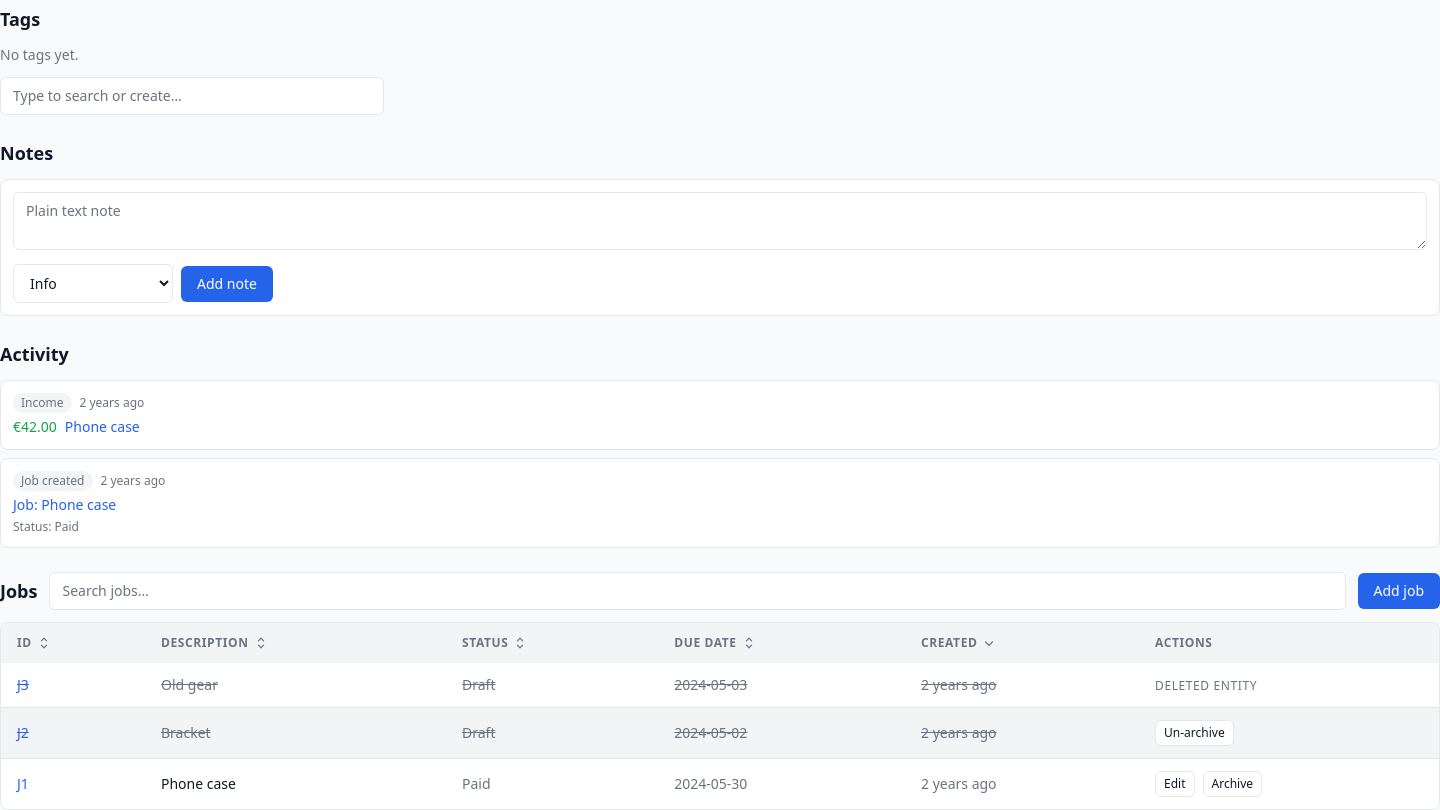
Scenario: ClientDetailPage › archives a job from its row after confirming
(page scrolled)
Click the button with test id "client-job-archive-J1": coordinates (1232, 784) left=1202, top=771, right=1262, bottom=797
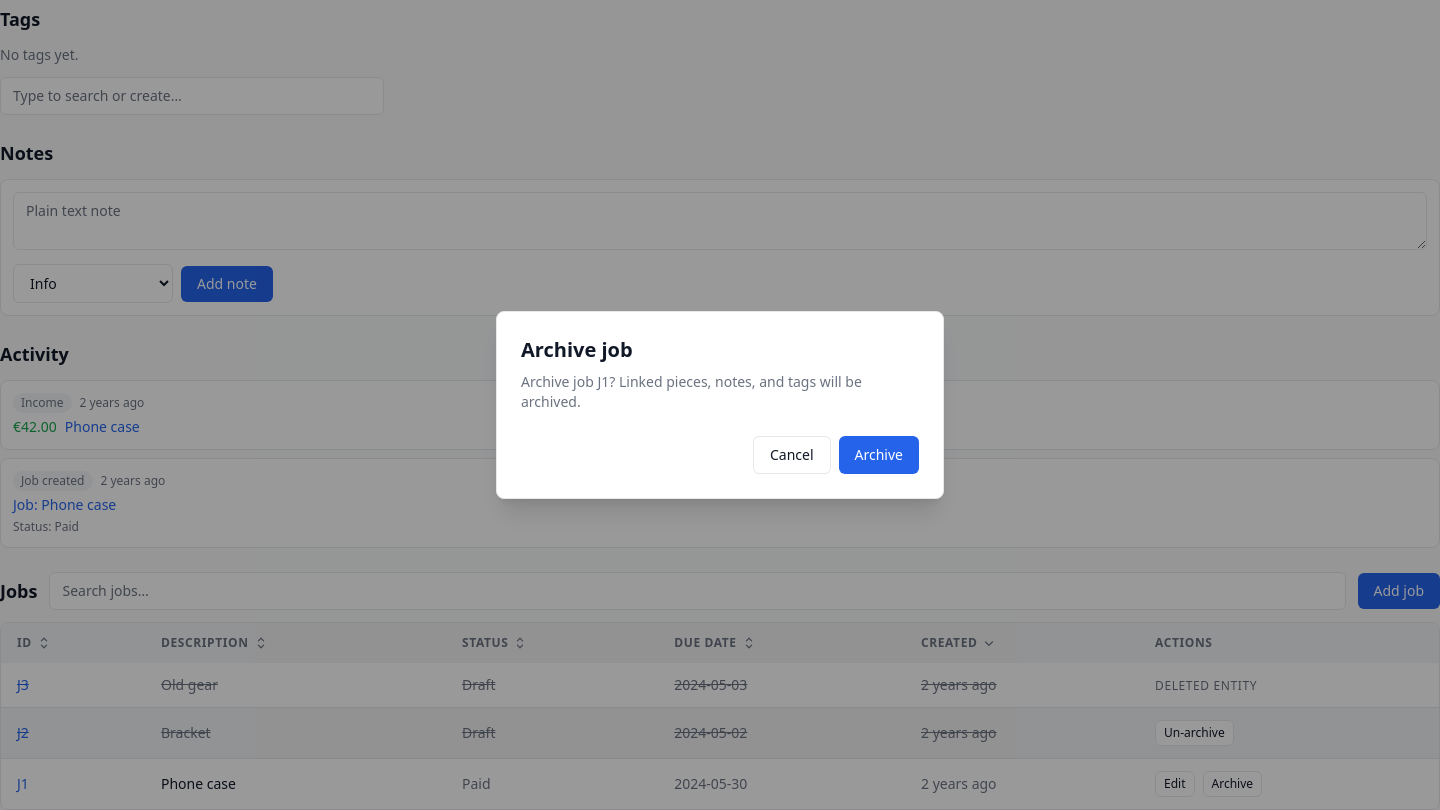
Expected: the heading "Archive job" is shown, left=521, top=336, right=632, bottom=363
Click the button "Archive": coordinates (879, 455) left=838, top=436, right=919, bottom=474
(page scrolled)
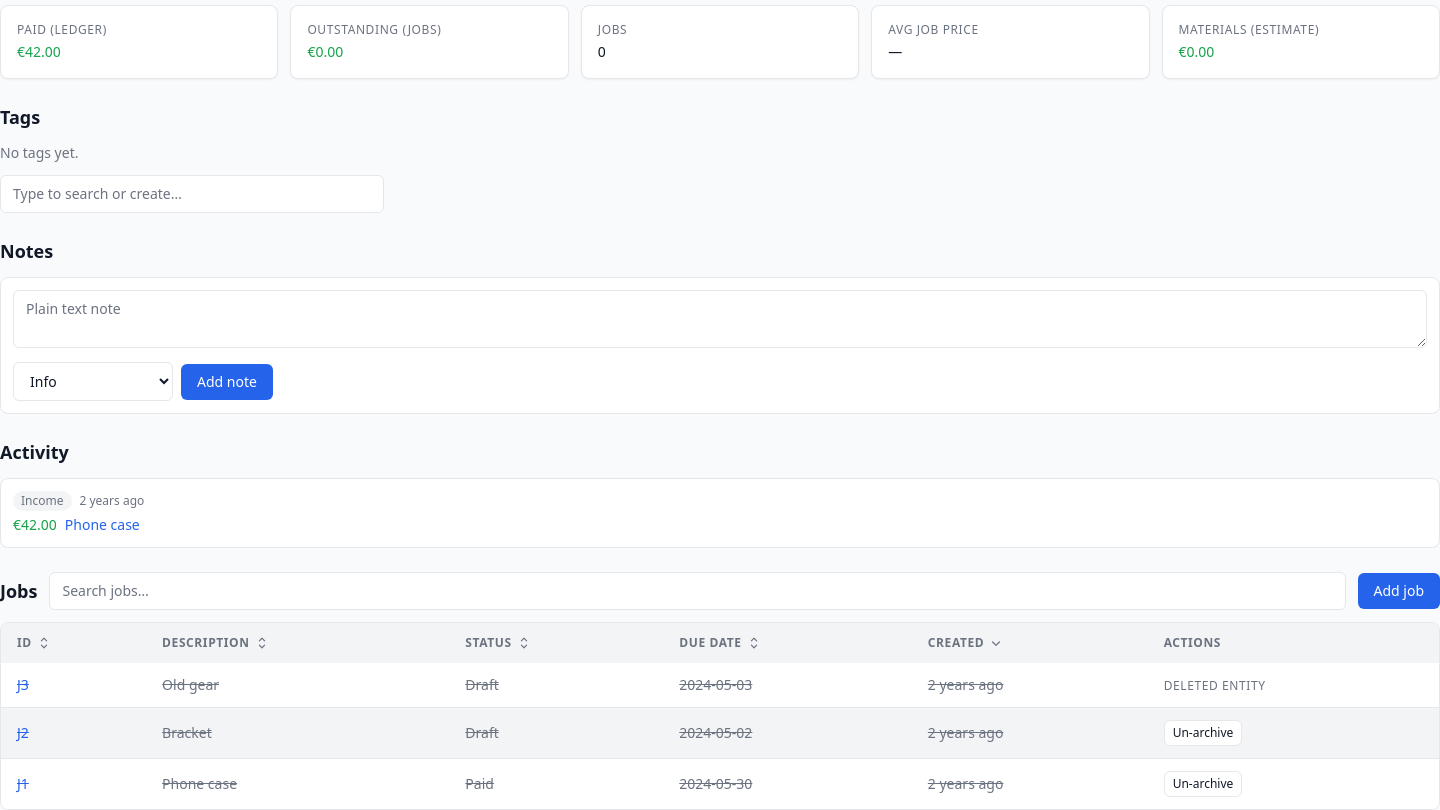
Expected: the button with test id "client-job-unarchive-J1" is shown, left=1164, top=771, right=1242, bottom=797
